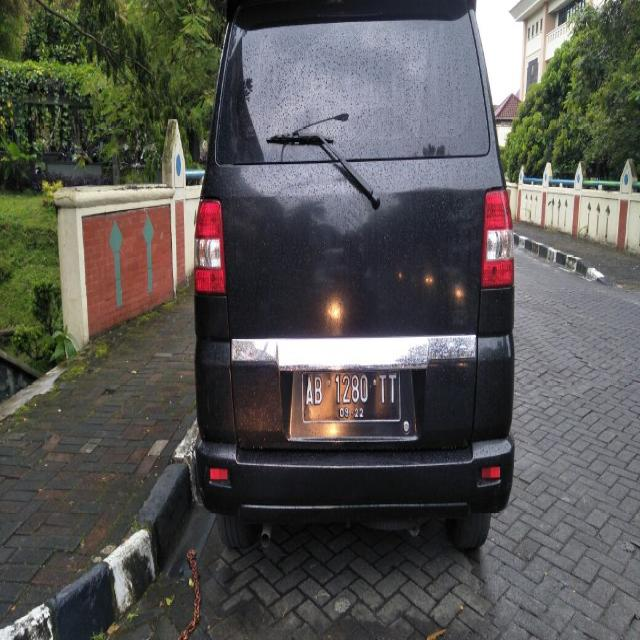plate: (299, 368, 401, 422)
